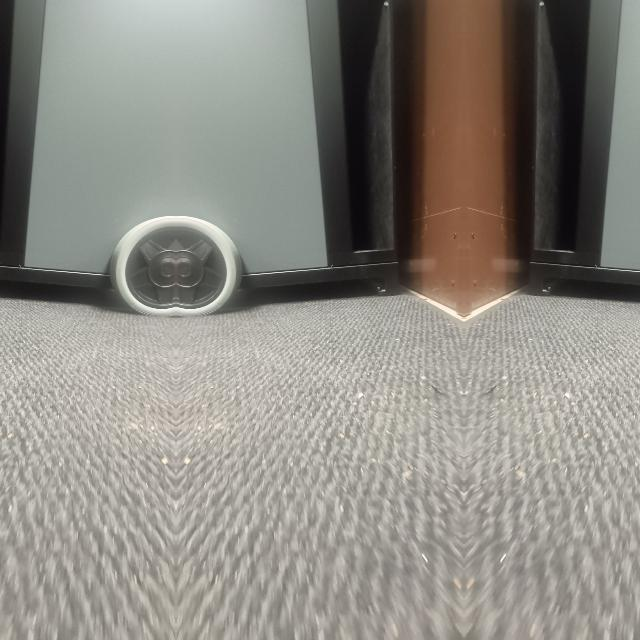obstacle: (176, 110, 402, 316), (0, 110, 174, 315), (525, 110, 640, 315)
